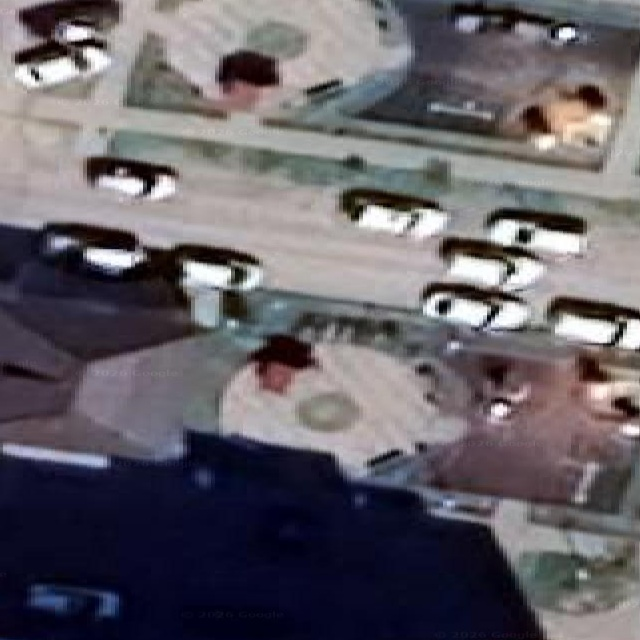car: (450, 2, 584, 45), (40, 223, 146, 276), (439, 237, 544, 290), (340, 188, 448, 239), (421, 283, 529, 330), (485, 208, 586, 256), (546, 297, 639, 349), (14, 39, 111, 88), (169, 244, 263, 291), (85, 156, 177, 200), (17, 0, 120, 39), (26, 583, 120, 621), (52, 20, 97, 44)
